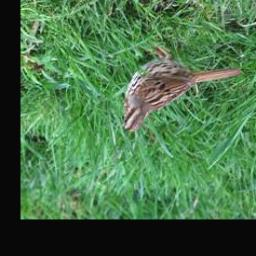Sparrow: (118, 43, 243, 137)
